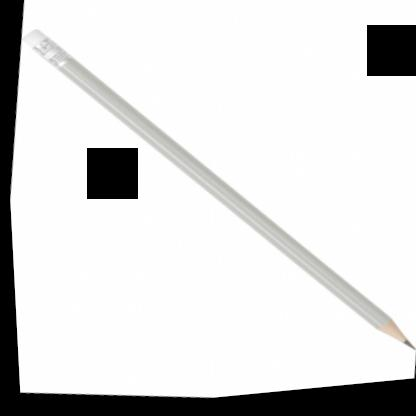pencil: (21, 21, 412, 359)
